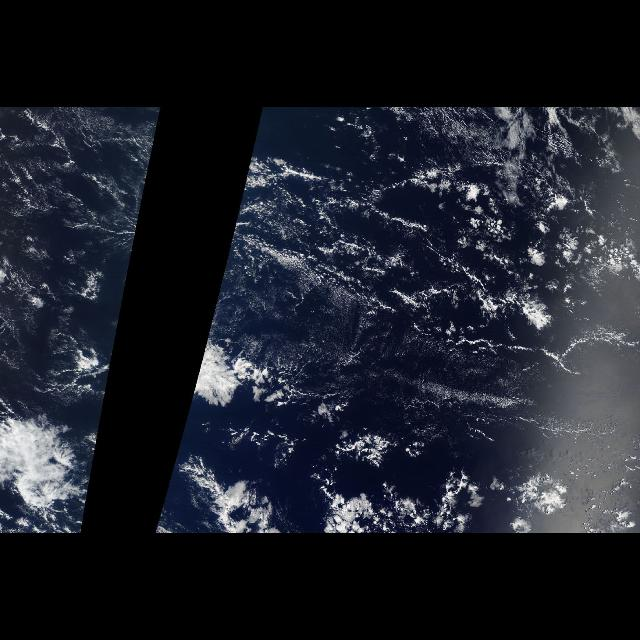Fish: (214, 186, 478, 314)
Sugar: (381, 385, 617, 445), (236, 262, 360, 372)
